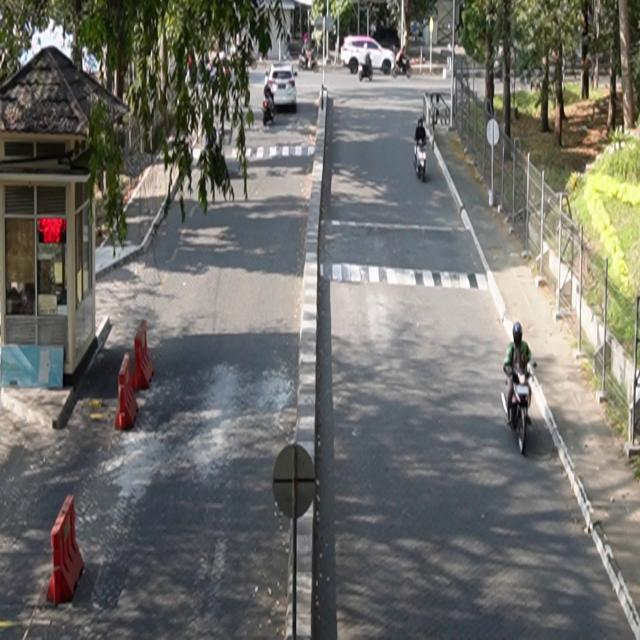car: (265, 64, 298, 113)
